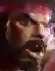ryu: (6, 0, 49, 59)
